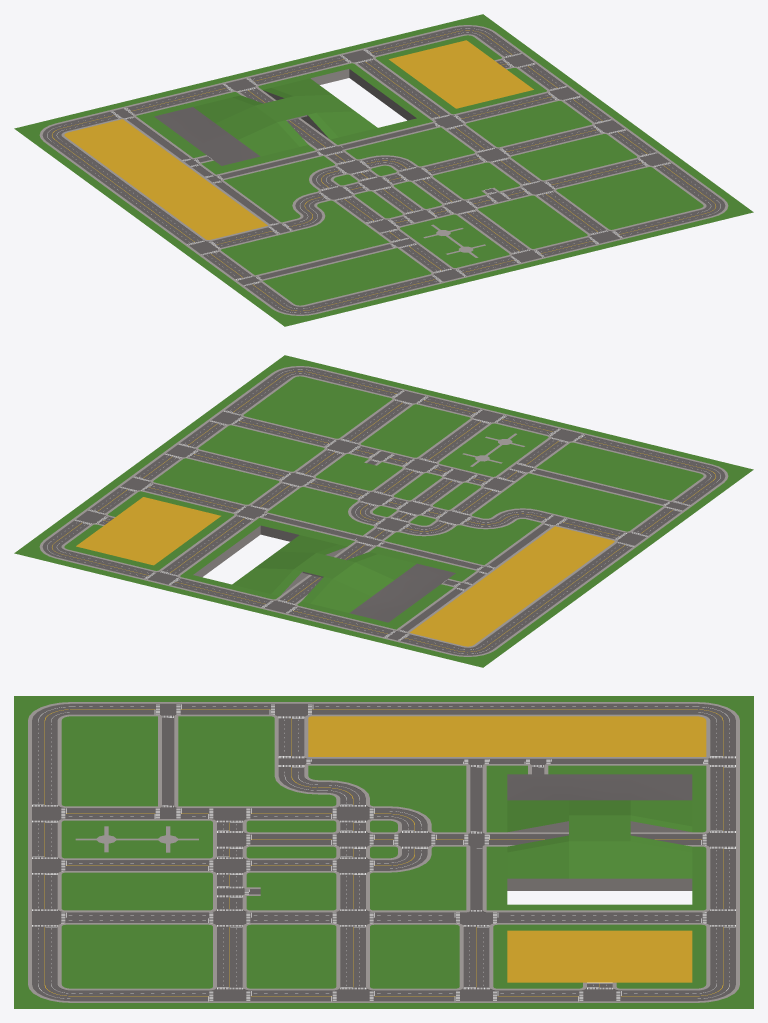
The model's file is Bodenlos 1.fbx.
The picture shows the model from 3 angles, top to bottom: view 1: azimuth 30°, elevation 25°; view 2: azimuth 150°, elevation 25°; view 3: azimuth 270°, elevation 25°; orthographic projection. The views are drawn at different scales.
Parts seen in each view (by area): view 1: Ground; view 2: Ground; view 3: Ground.
Boxes of the visible parts, x1,y1,x2,y2 form: Ground: [14, 14, 753, 326]; Ground: [14, 355, 753, 667]; Ground: [14, 696, 753, 1008].
Bounding box in the file's own units: 36000 × 1271 × 36000.
